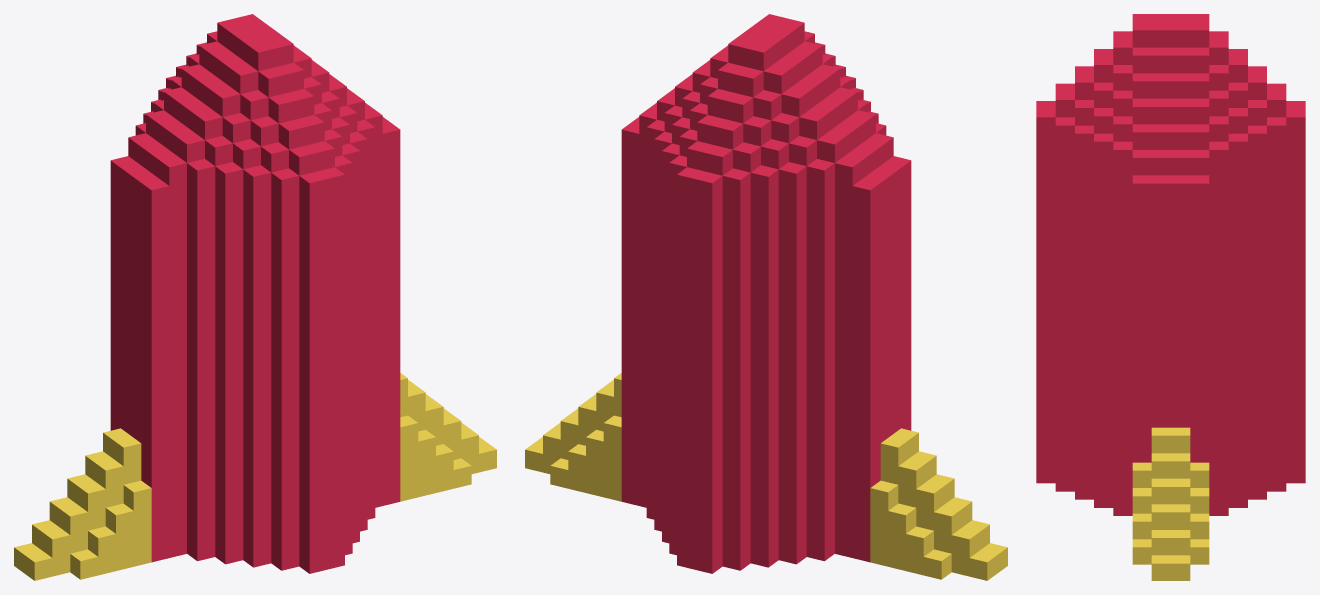
Rendered from rocket.fbx.
The picture shows the model from 3 angles, left to right: view 1: azimuth 30°, elevation 25°; view 2: azimuth 150°, elevation 25°; view 3: azimuth 270°, elevation 25°; orthographic projection. The views are drawn at different scales.
Parts seen in each view (by area): view 1: generated; view 2: generated; view 3: generated.
Part boxes in pixels (bbox=[...]): generated: bbox=[14, 14, 496, 580]; generated: bbox=[525, 14, 1007, 580]; generated: bbox=[1036, 14, 1305, 580].
Size of the model in its own units: 260 by 260 by 140.
